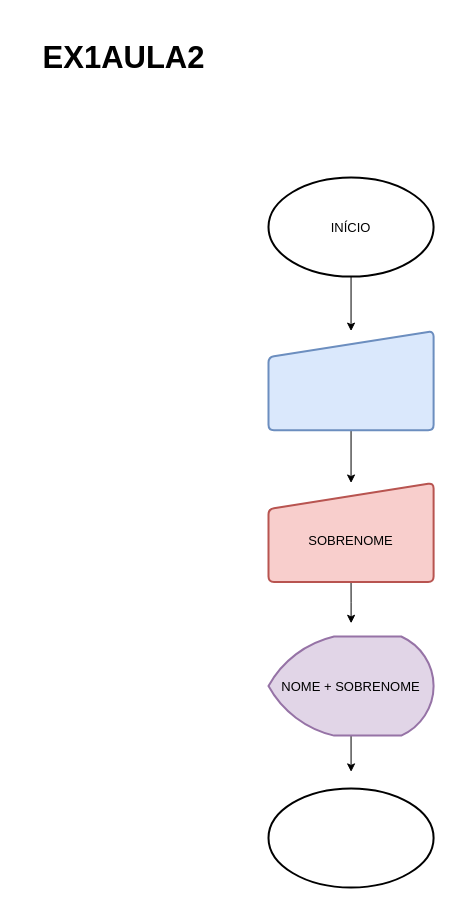
Image size: 452x905. Some labels were removed from this diagram. The centre of each missing label's shape, as x and y in pixels:
"FIM" belongs at point 350,837.
"NOME" belongs at point 350,380.
